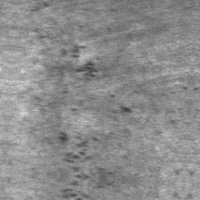rolled-in_scale: (29, 28, 99, 110), (54, 124, 122, 180)
